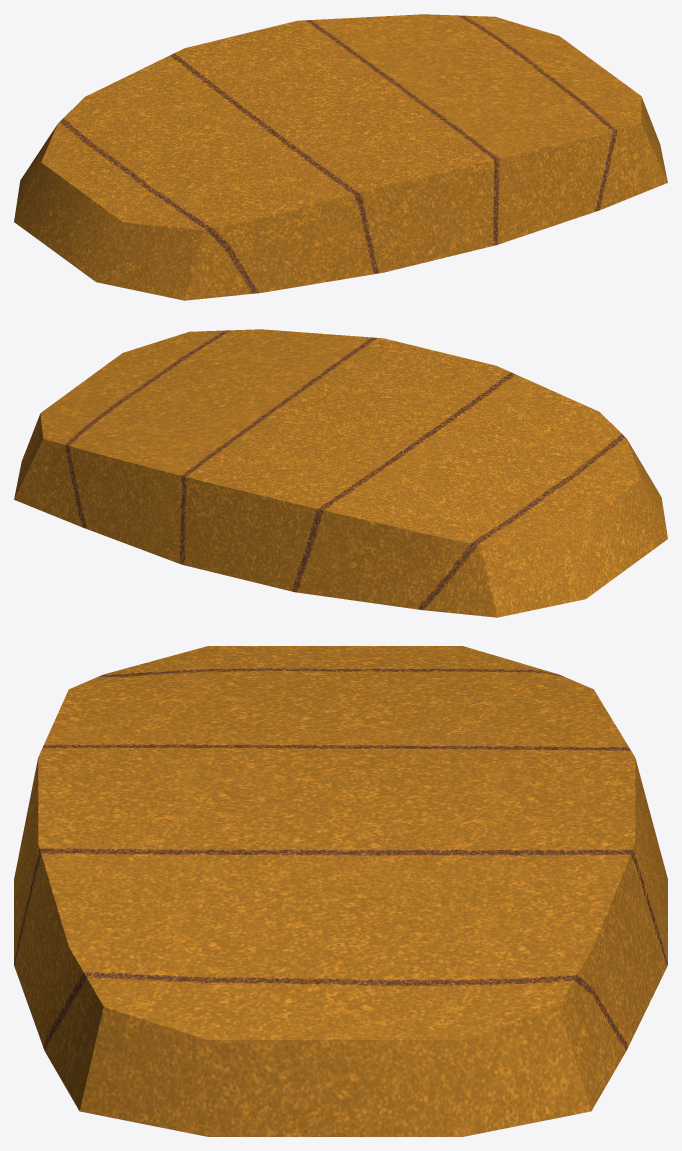
Rendered from katu.fbx.
The picture shows the model from 3 angles, top to bottom: view 1: azimuth 30°, elevation 25°; view 2: azimuth 150°, elevation 25°; view 3: azimuth 270°, elevation 25°; orthographic projection. The views are drawn at different scales.
Visible parts, largest first — view 1: pCube1; view 2: pCube1; view 3: pCube1.
Boxes of the visible parts, x1=… form: pCube1: x1=14, y1=14, x2=667, y2=300; pCube1: x1=14, y1=329, x2=667, y2=617; pCube1: x1=14, y1=646, x2=667, y2=1136.
Bounding box in the file's own units: 1.98 × 0.263 × 1.28.
1 material, 1 textured.
